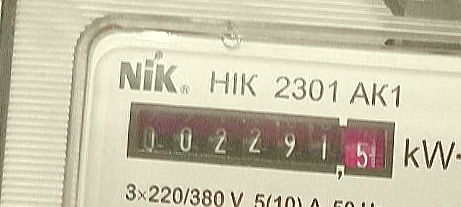0: (137, 121, 157, 151), (175, 123, 193, 153)
1: (314, 129, 330, 163)
2: (210, 125, 228, 154), (245, 124, 261, 154)
5: (352, 138, 369, 168)
9: (279, 128, 297, 159)
screen: (119, 95, 400, 185)
